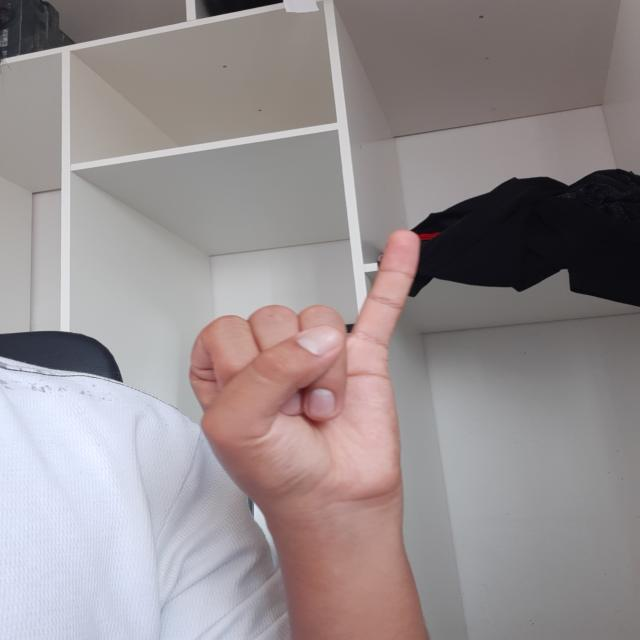I: (190, 206, 462, 532)
